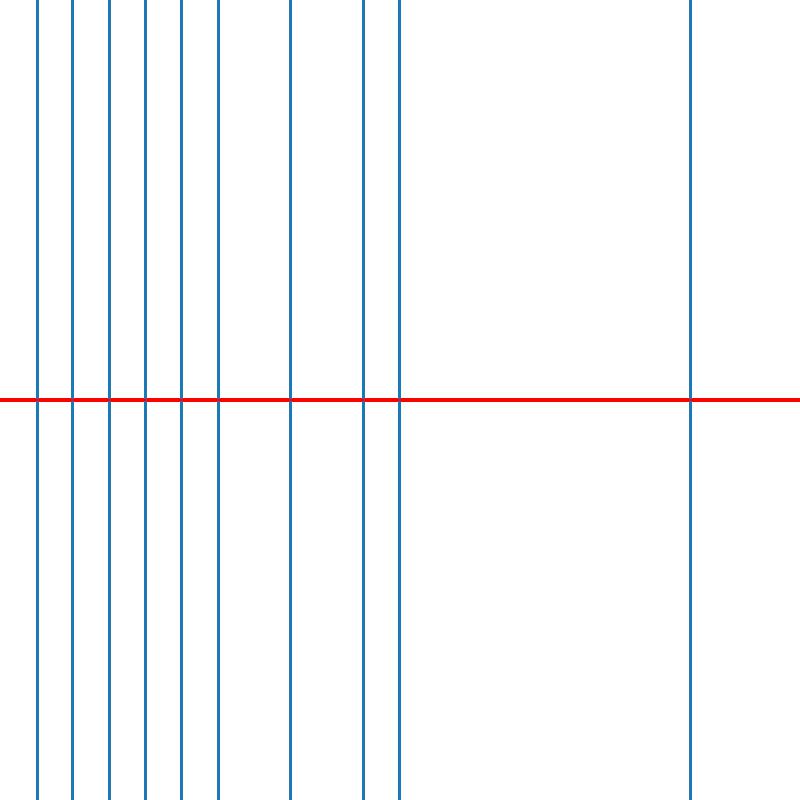root: (32, 396, 40, 404), (141, 396, 149, 404), (687, 396, 694, 404), (178, 396, 185, 404), (105, 396, 112, 404), (69, 396, 76, 404), (396, 396, 403, 404), (360, 396, 367, 404), (214, 396, 221, 404), (287, 396, 294, 404)
